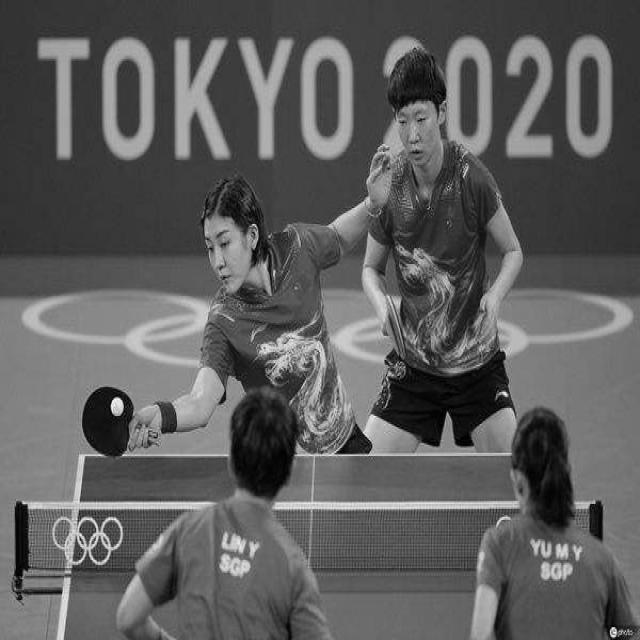ping-pong-ball: (108, 392, 125, 419)
